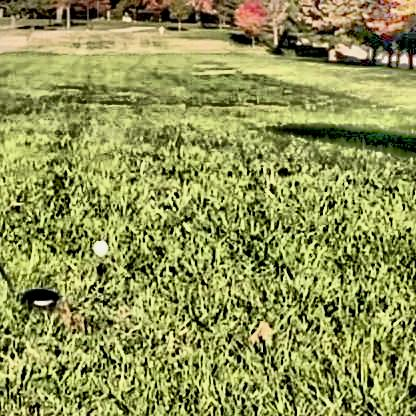golfball: (91, 236, 106, 251)
